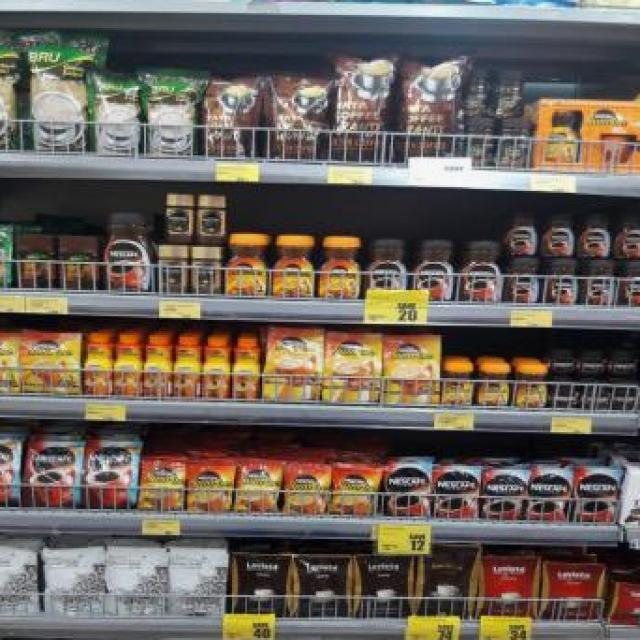Coffee: (103, 210, 155, 293), (263, 329, 321, 403), (325, 334, 380, 403), (384, 336, 439, 404), (27, 441, 82, 508), (85, 443, 138, 508), (24, 333, 79, 393), (273, 235, 315, 298), (460, 240, 502, 302), (413, 240, 453, 304), (228, 234, 268, 298), (320, 236, 360, 298), (368, 240, 408, 301), (384, 464, 430, 516), (433, 466, 478, 518), (141, 458, 185, 511), (334, 466, 377, 516), (188, 462, 230, 513), (286, 464, 328, 514), (528, 471, 569, 522), (576, 470, 616, 522), (237, 462, 278, 512), (484, 470, 525, 520), (538, 212, 574, 260), (144, 334, 170, 400), (114, 336, 141, 398), (174, 336, 200, 399), (233, 338, 259, 401), (84, 334, 110, 396), (574, 213, 608, 257), (544, 260, 578, 304), (506, 210, 538, 256), (507, 257, 539, 303), (204, 338, 228, 399), (198, 195, 227, 245), (192, 248, 222, 296), (442, 363, 475, 406), (515, 364, 548, 407), (584, 260, 614, 306), (158, 246, 186, 294), (478, 364, 510, 406), (166, 194, 193, 242), (0, 438, 19, 506), (614, 216, 640, 256), (0, 331, 17, 391), (619, 260, 640, 305), (550, 384, 578, 408), (550, 350, 575, 374), (584, 385, 610, 408), (612, 387, 638, 410), (579, 352, 606, 374), (612, 352, 638, 374)
